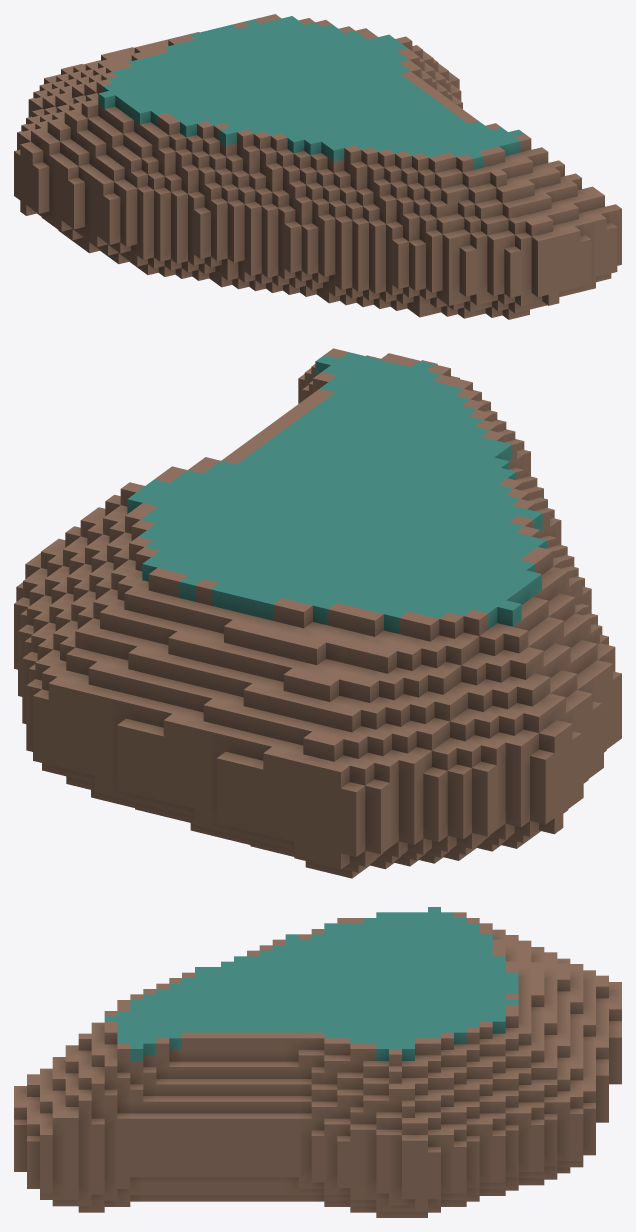
The model's file is rock_large.glb.
3 renders of one model, top to bottom at view 1: azimuth 30°, elevation 25°; view 2: azimuth 150°, elevation 25°; view 3: azimuth 270°, elevation 25°, orthographic. The views are drawn at different scales.
Parts seen in each view (by area): view 1: voxels; view 2: voxels; view 3: voxels.
Boxes of the visible parts, x1=… form: voxels: x1=14, y1=14, x2=621, y2=319; voxels: x1=14, y1=348, x2=621, y2=878; voxels: x1=14, y1=907, x2=621, y2=1217.
Bounding box in the file's own units: 0.801 × 0.2815 × 1.02.
